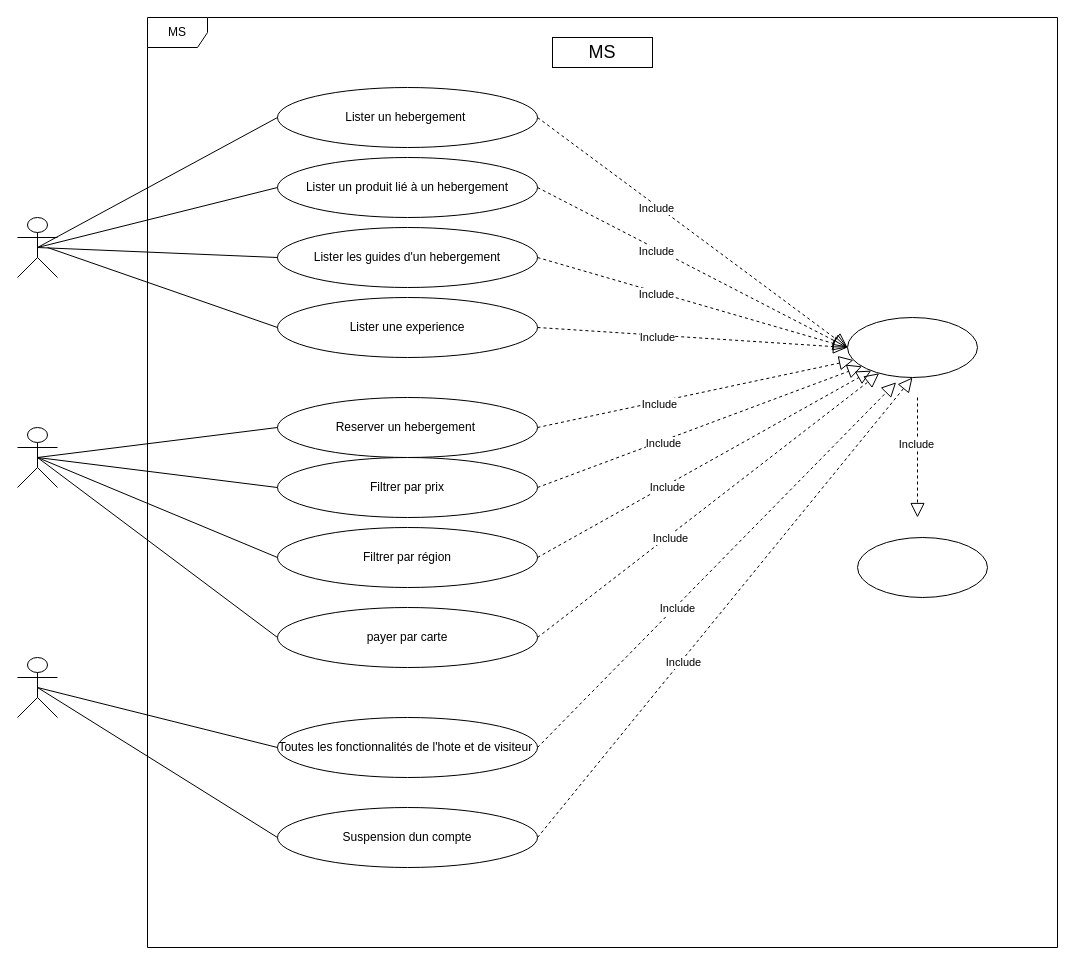
Some shapes in this 1075 by 965 pixel diagram are drawn without their labels. Each missing label, with the centre of its shape:
"Admin" goes at pixel 37 687.
"Hote" goes at pixel 37 247.
"Log in" goes at pixel 922 567.
"Sign Up" goes at pixel 912 347.
"Visiteur" goes at pixel 37 457.
